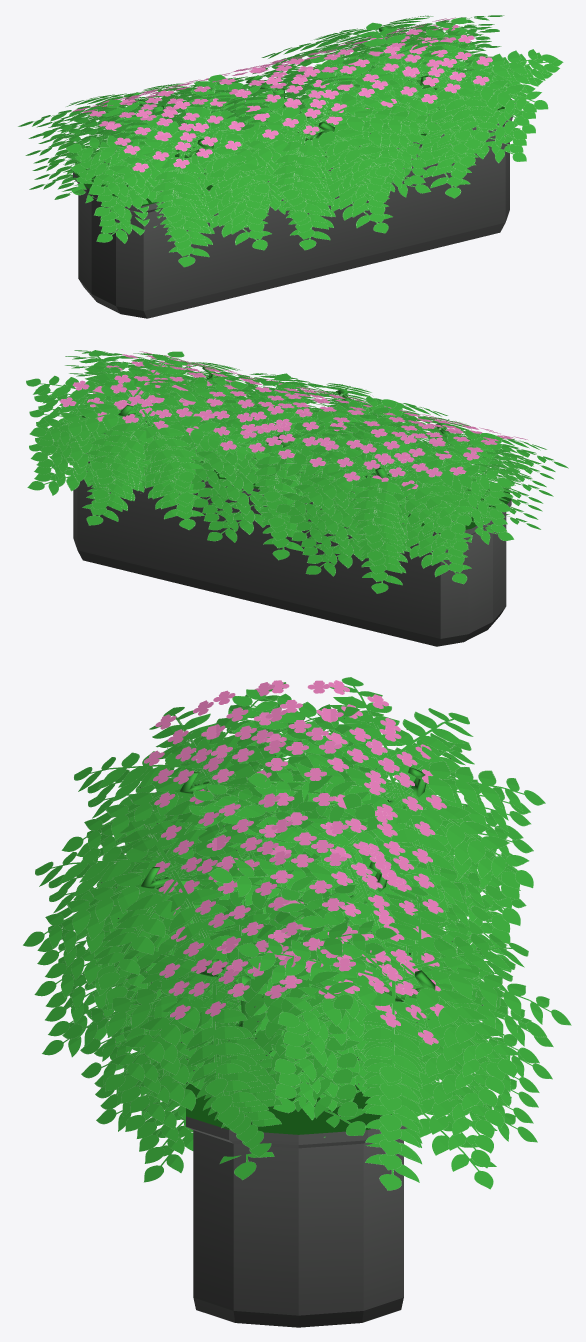
File: planter3.fbx
The picture shows the model from 3 angles, top to bottom: view 1: azimuth 30°, elevation 25°; view 2: azimuth 150°, elevation 25°; view 3: azimuth 270°, elevation 25°; orthographic projection. The views are drawn at different scales.
Parts seen in each view (by area): view 1: Cylinder.005; view 2: Cylinder.005; view 3: Cylinder.005.
Boxes of the visible parts, x1,y1,x2,y2 form: Cylinder.005: (18, 15, 563, 318); Cylinder.005: (26, 350, 568, 646); Cylinder.005: (23, 677, 571, 1327).
Bounding box in the file's own units: 0.7624 × 0.2729 × 0.4315.
2 materials, 2 textured.
